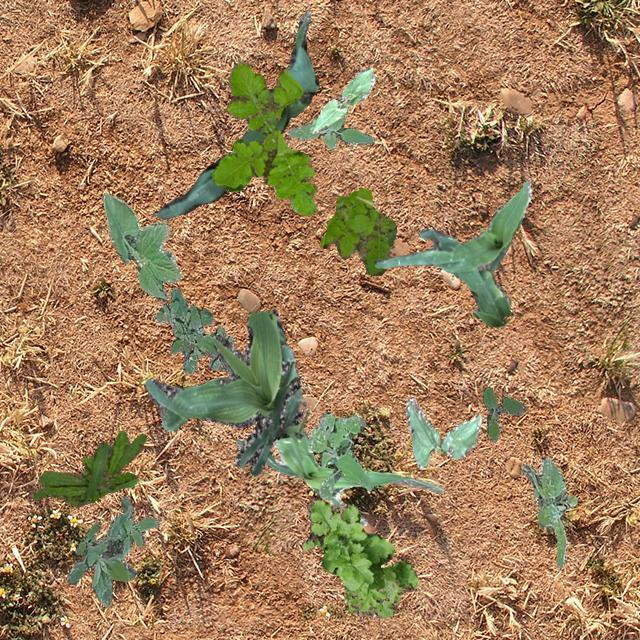crop: (156, 8, 318, 218), (142, 308, 306, 474), (374, 180, 530, 326), (235, 428, 442, 524), (102, 192, 182, 300), (406, 397, 480, 468), (310, 66, 374, 132)
weed: (210, 60, 316, 214), (300, 498, 418, 618), (66, 494, 158, 606), (31, 429, 146, 506), (154, 286, 232, 374), (320, 186, 396, 274), (520, 458, 576, 566), (306, 411, 372, 498), (286, 115, 374, 148), (482, 386, 526, 440)
